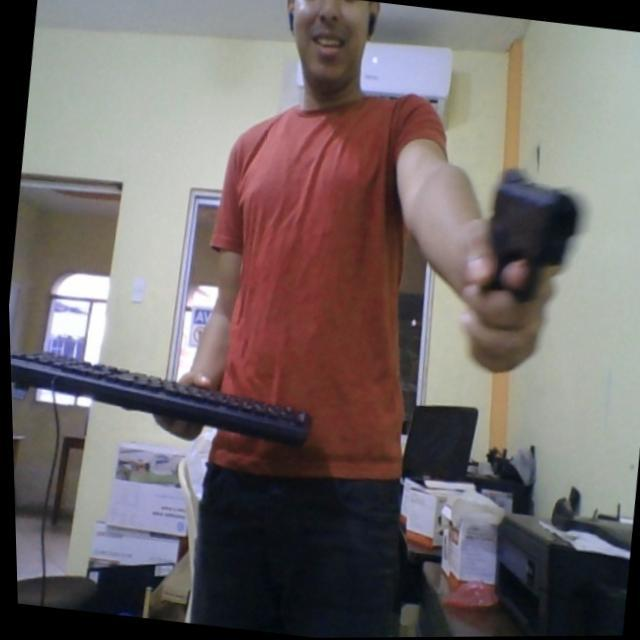weapon: (470, 166, 588, 319)
